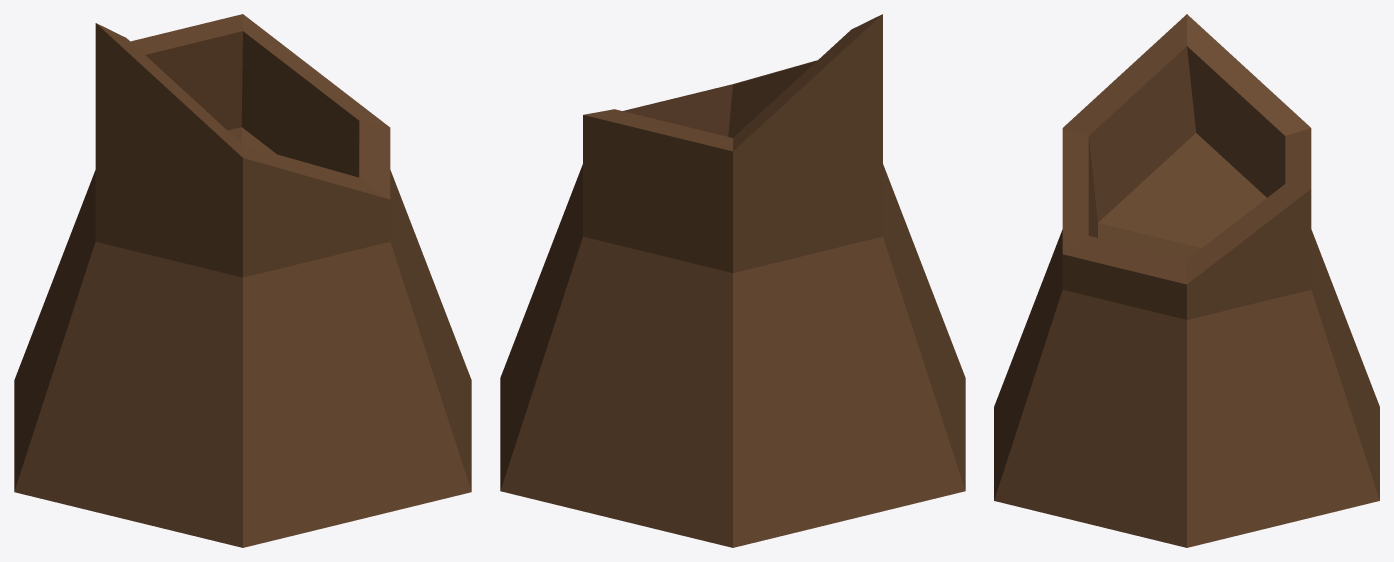
Rendered from wood_bark_cut.fbx.
The picture shows the model from 3 angles, left to right: view 1: azimuth 30°, elevation 25°; view 2: azimuth 150°, elevation 25°; view 3: azimuth 270°, elevation 25°; orthographic projection. The views are drawn at different scales.
Parts seen in each view (by area): view 1: bark_cut; view 2: bark_cut; view 3: bark_cut.
Boxes of the visible parts, x1,y1,x2,y2 form: bark_cut: (14,14,471,547); bark_cut: (500,14,965,547); bark_cut: (994,14,1379,547).
Size of the model in its own units: 217 by 203 by 188.
